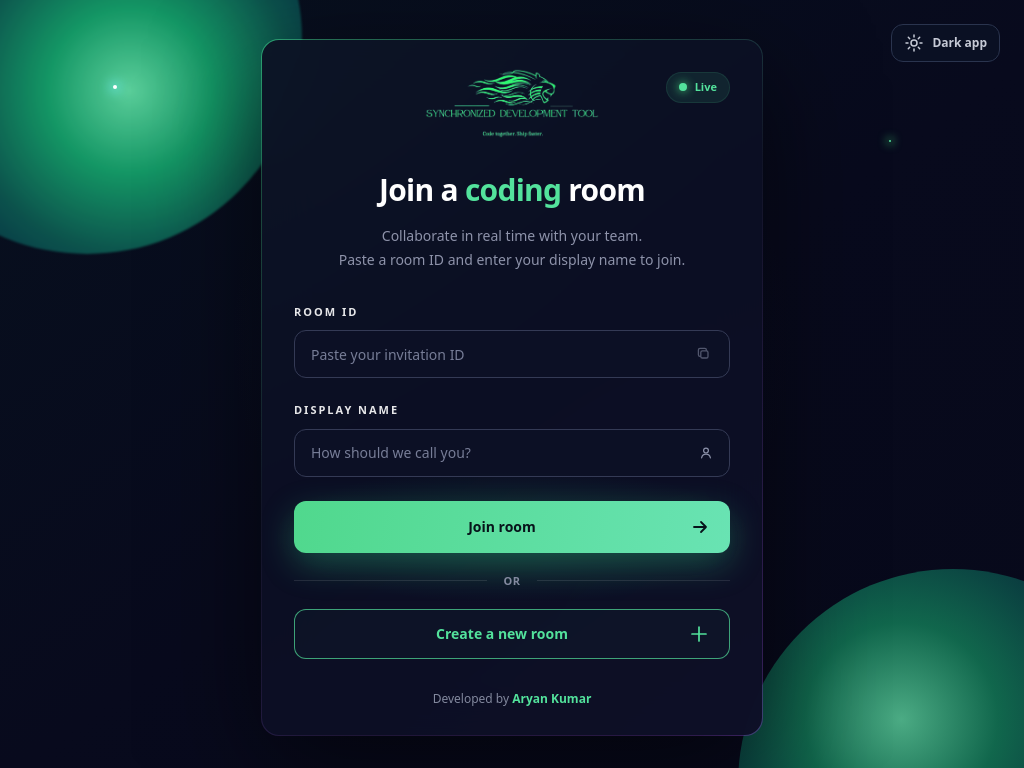
Test: creates a room and moves focus to the display name
Step 1. Click the button "Create a new room" → (512, 634), box [294,609,730,659]
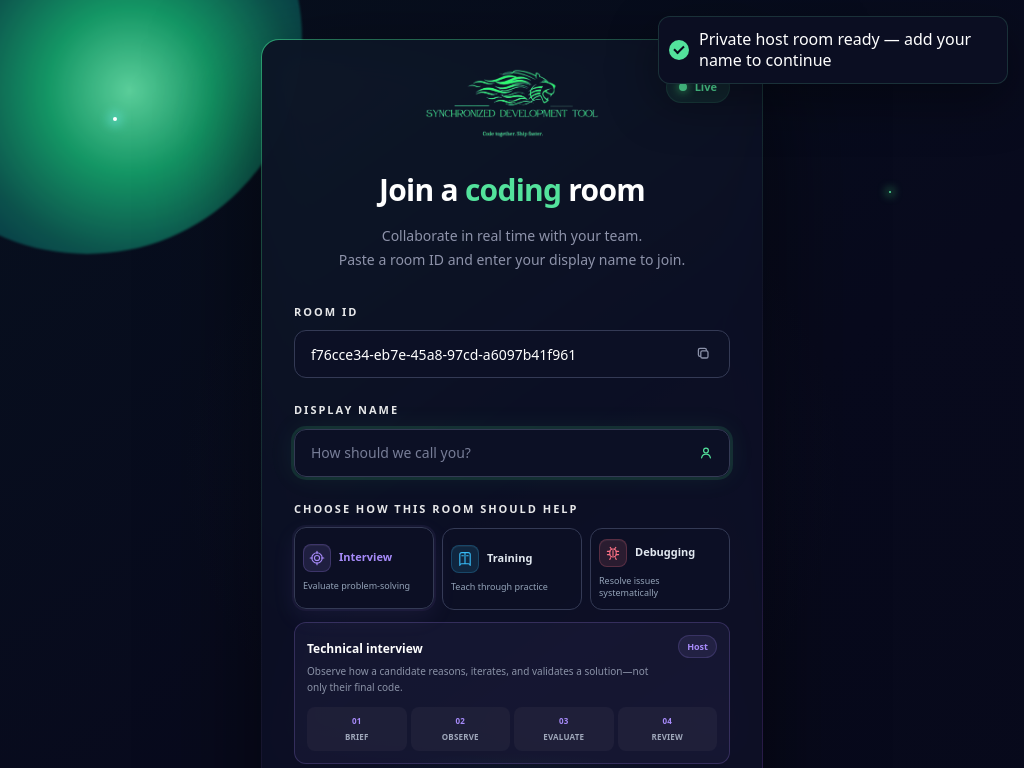
Check: the field with placeholder "Paste your invitation ID" is not empty, box [294,330,730,378]
